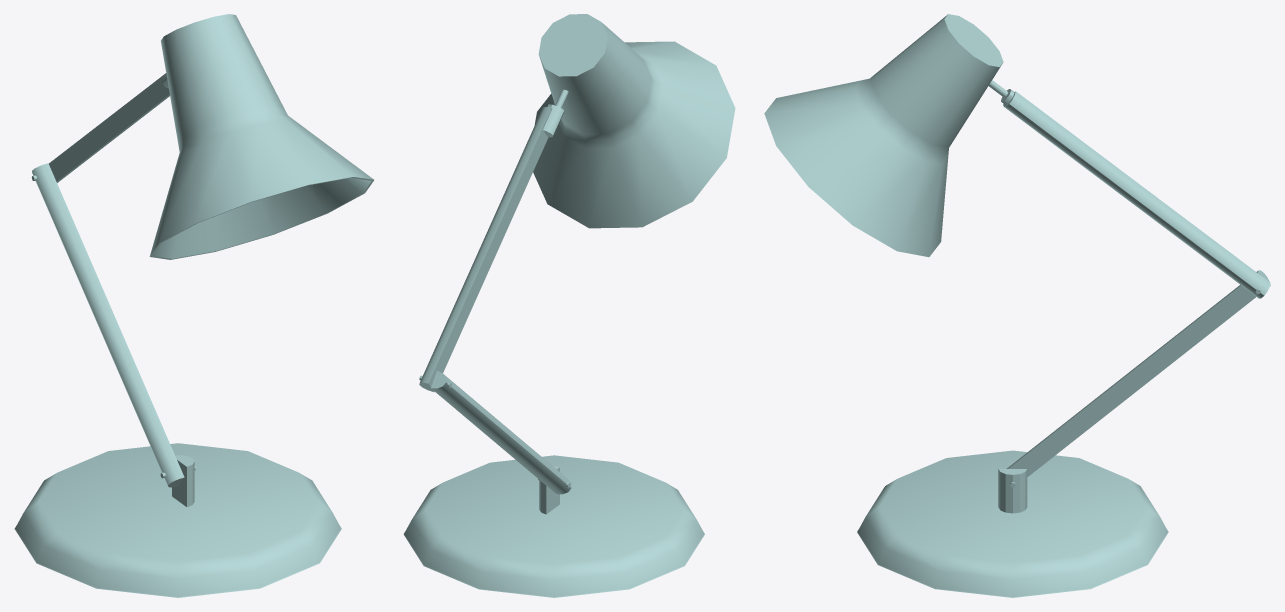
Rendered from lamp_model.fbx.
3 renders of one model, left to right at view 1: azimuth 30°, elevation 25°; view 2: azimuth 150°, elevation 25°; view 3: azimuth 270°, elevation 25°, orthographic. The views are drawn at different scales.
Visible parts, largest first — view 1: base_geo, head_geo, lower_arm_geo, upper_arm_geo; view 2: head_geo, base_geo, upper_arm_geo, lower_arm_geo; view 3: base_geo, head_geo, upper_arm_geo, lower_arm_geo.
Part boxes in pixels (x1,y1,x2,y2): base_geo: (14, 443, 341, 597); head_geo: (149, 14, 373, 259); lower_arm_geo: (31, 163, 184, 487); upper_arm_geo: (49, 73, 169, 182); head_geo: (533, 14, 735, 228); base_geo: (403, 455, 704, 597); upper_arm_geo: (419, 89, 568, 392); lower_arm_geo: (419, 371, 571, 494); base_geo: (857, 450, 1168, 597); head_geo: (764, 14, 1003, 257); upper_arm_geo: (988, 80, 1270, 298); lower_arm_geo: (1007, 270, 1270, 476).
Bounding box in the file's own units: 14.63 × 26.54 × 23.75.
